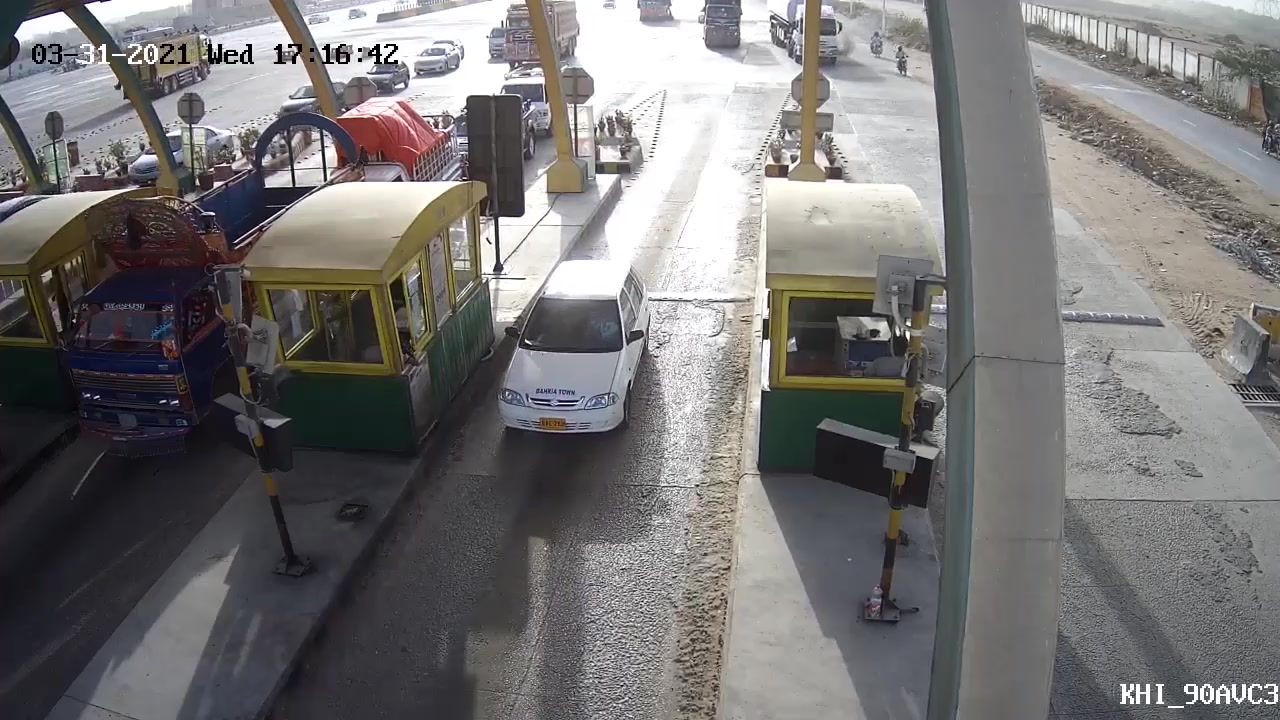F1: (496, 236, 655, 453)
